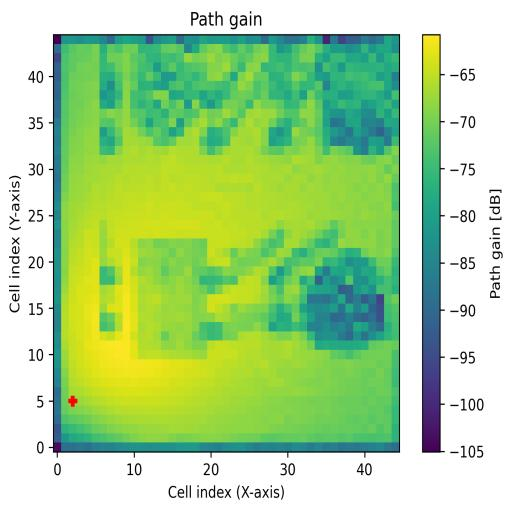Concrete: (316, 52, 391, 156)
Glass: (131, 54, 208, 154)
Metal: (299, 249, 384, 358)
Wood: (138, 239, 208, 359)
